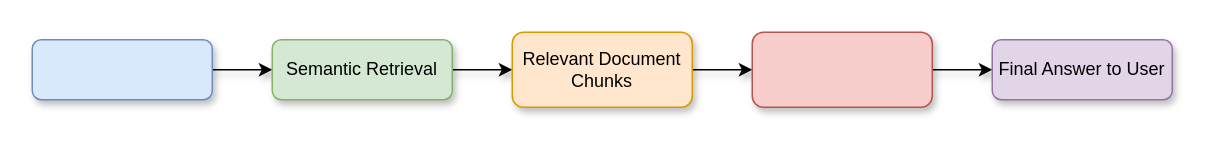
The diagram is 1208 pixels wide and 144 high, and some of its shapes have lost their labels. The shapes that lost their labels are listed below. From the top down, each one's centre as x and y in pixels, then its label:
(x=123, y=71): User Query
(x=843, y=71): Answer Generation & Polishing
